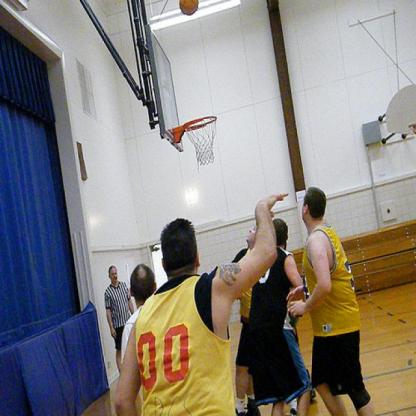basketball: (178, 0, 199, 16)
rim: (183, 114, 217, 132)
